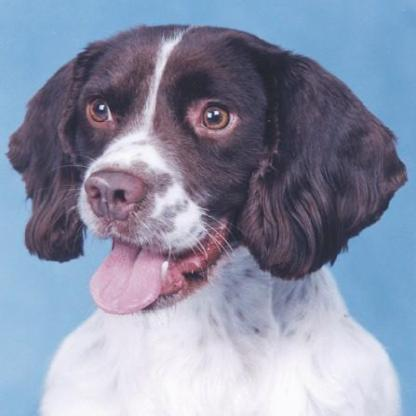English_springer: (5, 22, 406, 413)
